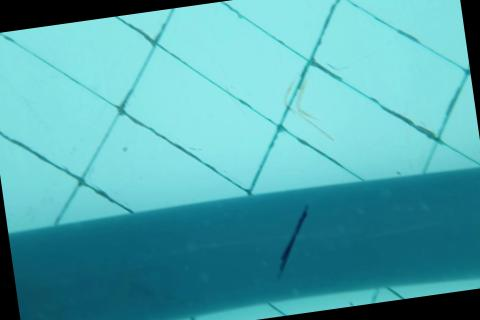keretakan: (266, 203, 318, 280)
